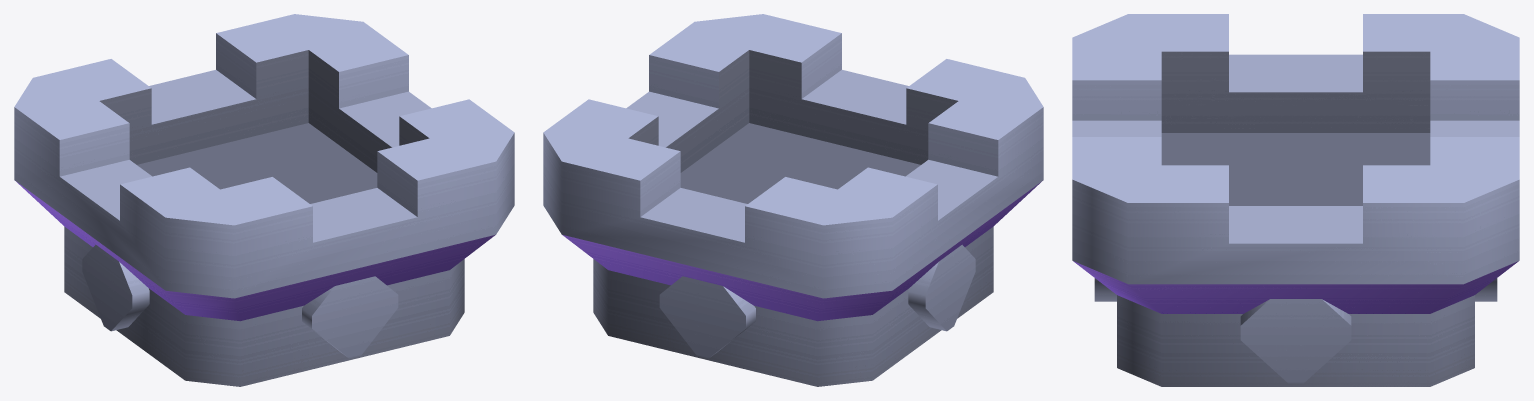
The model's file is tower-defense-kit--tower-square-top-c.glb.
3 renders of one model, left to right at view 1: azimuth 30°, elevation 25°; view 2: azimuth 150°, elevation 25°; view 3: azimuth 270°, elevation 25°, orthographic. The views are drawn at different scales.
Visible parts, largest first — view 1: tower-square-top-c; view 2: tower-square-top-c; view 3: tower-square-top-c.
Boxes of the visible parts, x1,y1,x2,y2 form: tower-square-top-c: (14,14,514,386); tower-square-top-c: (543,14,1043,386); tower-square-top-c: (1072,14,1519,386).
Size of the model in its own units: 1 by 0.5 by 1.
Materials: 1 (1 with a texture image).
